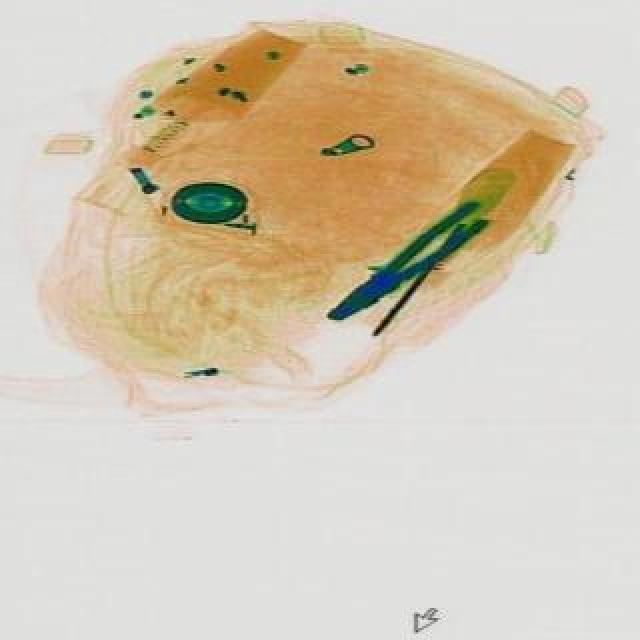wrench: (314, 198, 490, 338)
